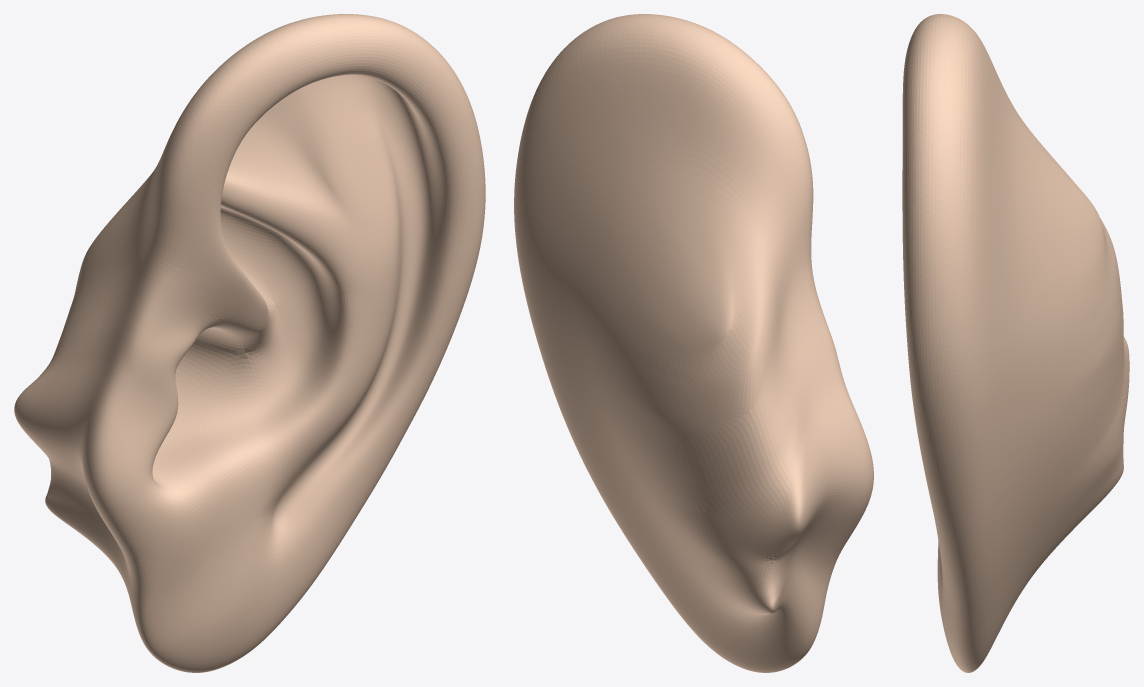
File: EAR_MODEL2.glb
3 views of the same model, side by side, from view 1: azimuth 30°, elevation 25°; view 2: azimuth 150°, elevation 25°; view 3: azimuth 270°, elevation 25° (orthographic). The views are drawn at different scales.
Visible parts, largest first — view 1: 3DSMeshMatrix.001, 3DSMeshMatrix.003, 3DSMeshMatrix; view 2: 3DSMeshMatrix, 3DSMeshMatrix.001; view 3: 3DSMeshMatrix, 3DSMeshMatrix.001, 3DSMeshMatrix.003.
Part boxes in pixels (<box>): 3DSMeshMatrix.001: <box>83,14,485,672</box>; 3DSMeshMatrix.003: <box>101,87,444,647</box>; 3DSMeshMatrix: <box>14,119,178,612</box>; 3DSMeshMatrix: <box>516,46,862,666</box>; 3DSMeshMatrix.001: <box>514,14,873,672</box>; 3DSMeshMatrix: <box>969,30,1129,659</box>; 3DSMeshMatrix.001: <box>902,14,984,672</box>; 3DSMeshMatrix.003: <box>930,481,980,589</box>.
Size of the model in its own units: 24.43 by 39.33 by 11.87.
